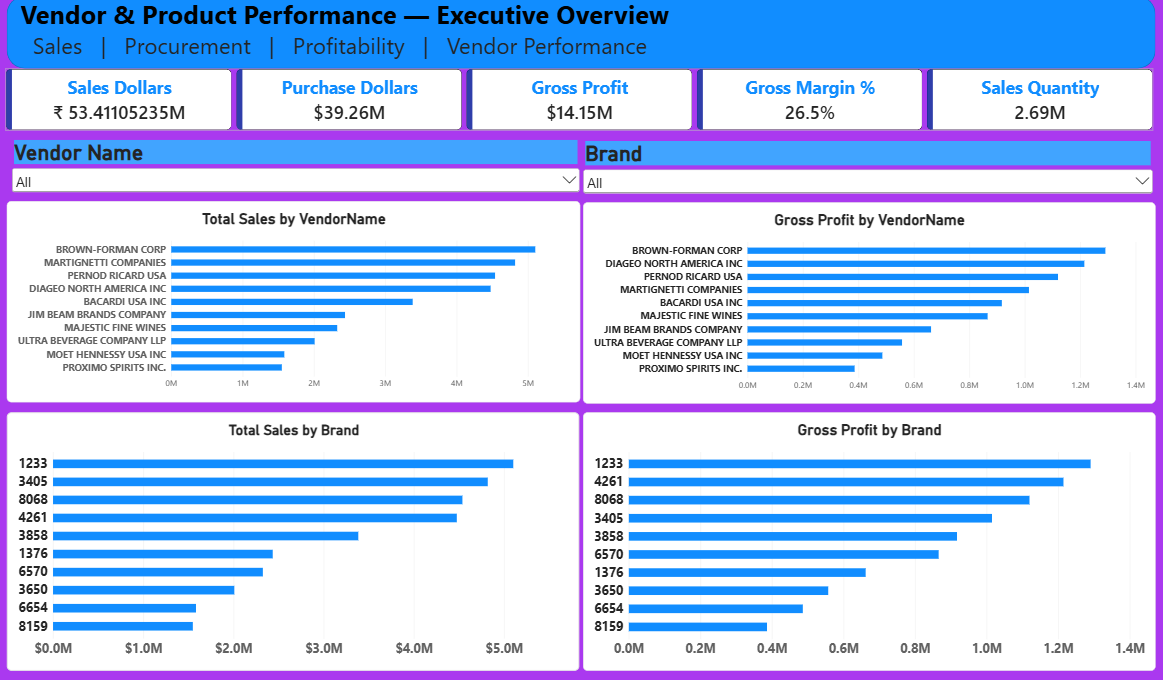

What the dashboard file says about the page in this screenshot:
{"tool":"powerbi","page":{"name":"Page 1","canvas":[1957,1147],"ordinal":0},"visuals":[{"type":"cardVisual","fields":{"Data":["Sum(FactVendorSales.TotalSalesDollars)","Sum(FactVendorSales.TotalPurchaseDollars)","FactVendorSales.Gross Profit","FactVendorSales.Gross Margin %","Sum(FactVendorSales.TotalSalesQuantity)"]},"box":[12.6,121.6,1928.1,104.8],"z":0},{"type":"shape","box":[14.7,0,1926,121.6],"z":1000},{"type":"textbox","box":[37.7,0,1768.8,121.6],"z":2000},{"type":"slicer","fields":{"Values":["DimVendor.VendorName"]},"box":[18.9,241,961,101.9],"z":5000},{"type":"slicer","fields":{"Values":["DimProduct.Brand"]},"box":[976.6,243.1,964,102.7],"z":6000},{"type":"clusteredBarChart","fields":{"Category":["DimVendor.VendorName"],"Y":["FactVendorSales.Total Sales"]},"box":[14.7,343.7,961.9,337.4],"z":7000},{"type":"clusteredBarChart","fields":{"Category":["DimVendor.VendorName"],"Y":["FactVendorSales.Gross Profit"]},"box":[980.8,345.8,959.9,337.4],"z":8000},{"type":"clusteredBarChart","fields":{"Category":["DimProduct.Brand"],"Y":["FactVendorSales.Total Sales"]},"box":[14.7,697.9,959.9,433.8],"z":9000},{"type":"clusteredBarChart","fields":{"Category":["FactVendorSales.Brand"],"Y":["FactVendorSales.Gross Profit"]},"box":[980.8,697.9,959.9,433.8],"z":9001}]}

Visuals, with their boxes in screenshot pixels (x1, y1, x2, y2), scaled from the page's 1957x1147 canvas onto the 1163x680 screenshot:
cardVisual - Sum(FactVendorSales.TotalSalesDollars) x Sum(FactVendorSales.TotalPurchaseDollars): x1=7, y1=72, x2=1153, y2=134
shape: x1=9, y1=0, x2=1153, y2=72
textbox: x1=22, y1=0, x2=1074, y2=72
slicer - DimVendor.VendorName: x1=11, y1=143, x2=582, y2=203
slicer - DimProduct.Brand: x1=580, y1=144, x2=1153, y2=205
clusteredBarChart - DimVendor.VendorName x FactVendorSales.Total Sales: x1=9, y1=204, x2=580, y2=404
clusteredBarChart - DimVendor.VendorName x FactVendorSales.Gross Profit: x1=583, y1=205, x2=1153, y2=405
clusteredBarChart - DimProduct.Brand x FactVendorSales.Total Sales: x1=9, y1=414, x2=579, y2=671
clusteredBarChart - FactVendorSales.Brand x FactVendorSales.Gross Profit: x1=583, y1=414, x2=1153, y2=671
